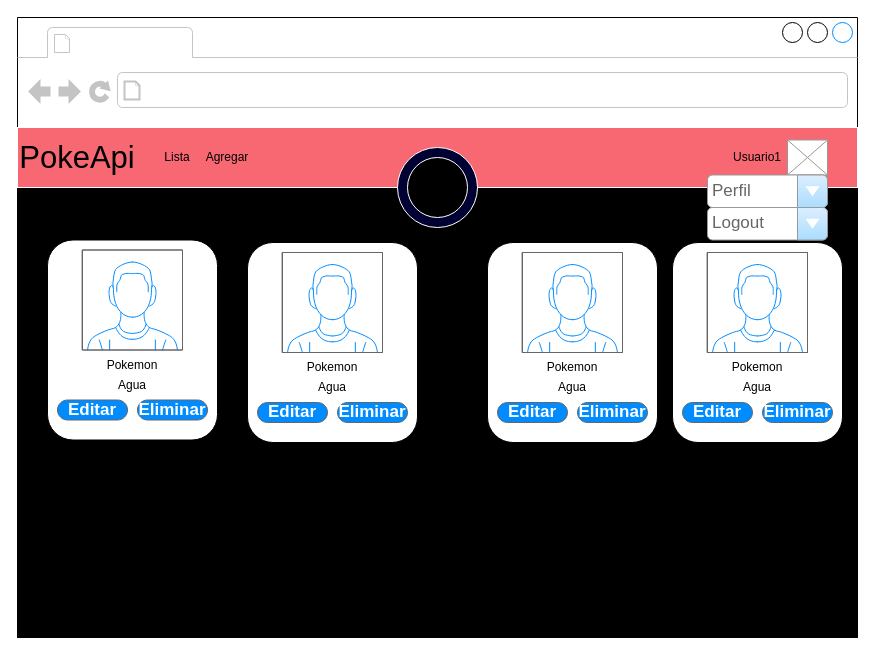
Some shapes in this 875 by 655 pixel diagram are drawn without their labels. Each missing label, with the centre of its shape:
"https://localhost:4200" goes at (272,90).
"Poke Api" goes at (132,42).
